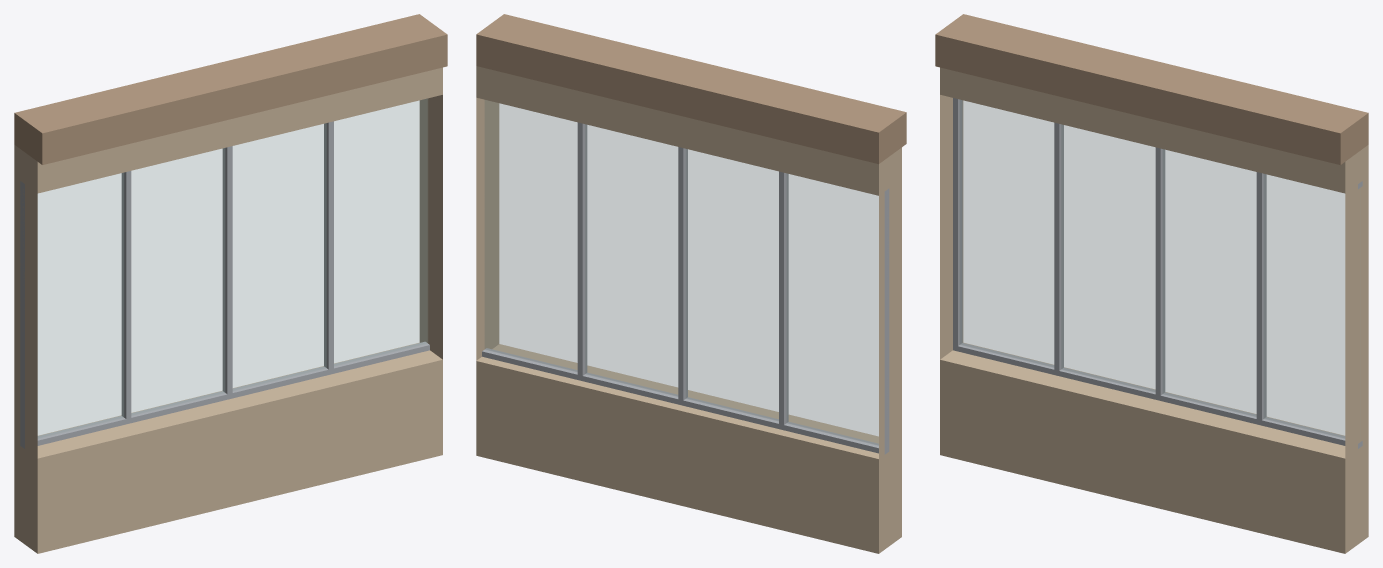
Rendered from city_office_glazed.glb.
3 views of the same model, side by side, from view 1: azimuth 30°, elevation 25°; view 2: azimuth 150°, elevation 25°; view 3: azimuth 330°, elevation 25° (orthographic).
Parts seen in each view (by area): view 1: CityOfficeGlazed_Glass, CityOfficeGlazed_Wall, CityOfficeGlazed_Band, CityOfficeGlazed_Transom0.9, CityOfficeGlazed_Mullion2.0, CityOfficeGlazed_Mullion1.0, CityOfficeGlazed_Mullion3.0, CityOfficeGlazed_Mullion0.0; view 2: CityOfficeGlazed_Glass, CityOfficeGlazed_Wall, CityOfficeGlazed_Band, CityOfficeGlazed_Transom0.9, CityOfficeGlazed_Mullion3.0, CityOfficeGlazed_Mullion2.0, CityOfficeGlazed_Mullion1.0, CityOfficeGlazed_Mullion0.0; view 3: CityOfficeGlazed_Glass, CityOfficeGlazed_Wall, CityOfficeGlazed_Band, CityOfficeGlazed_Transom0.9, CityOfficeGlazed_Mullion2.0, CityOfficeGlazed_Mullion3.0, CityOfficeGlazed_Mullion0.0, CityOfficeGlazed_Mullion1.0.
Part boxes in pixels (left/top/right/bottom): CityOfficeGlazed_Glass: left=38, top=99, right=427, bottom=438; CityOfficeGlazed_Wall: left=14, top=67, right=442, bottom=553; CityOfficeGlazed_Band: left=14, top=14, right=447, bottom=164; CityOfficeGlazed_Transom0.9: left=20, top=342, right=429, bottom=448; CityOfficeGlazed_Mullion2.0: left=222, top=146, right=232, bottom=399; CityOfficeGlazed_Mullion1.0: left=121, top=171, right=131, bottom=418; CityOfficeGlazed_Mullion3.0: left=324, top=121, right=333, bottom=369; CityOfficeGlazed_Mullion0.0: left=20, top=181, right=24, bottom=448; CityOfficeGlazed_Glass: left=484, top=100, right=878, bottom=445; CityOfficeGlazed_Wall: left=476, top=66, right=901, bottom=553; CityOfficeGlazed_Band: left=476, top=14, right=906, bottom=164; CityOfficeGlazed_Transom0.9: left=482, top=348, right=889, bottom=453; CityOfficeGlazed_Mullion3.0: left=577, top=122, right=587, bottom=380; CityOfficeGlazed_Mullion2.0: left=678, top=147, right=687, bottom=405; CityOfficeGlazed_Mullion1.0: left=779, top=171, right=788, bottom=430; CityOfficeGlazed_Mullion0.0: left=884, top=188, right=889, bottom=454; CityOfficeGlazed_Glass: left=960, top=100, right=1344, bottom=438; CityOfficeGlazed_Wall: left=940, top=67, right=1368, bottom=553; CityOfficeGlazed_Band: left=935, top=14, right=1368, bottom=164; CityOfficeGlazed_Transom0.9: left=953, top=343, right=1362, bottom=448; CityOfficeGlazed_Mullion2.0: left=1155, top=147, right=1165, bottom=400; CityOfficeGlazed_Mullion3.0: left=1256, top=172, right=1266, bottom=424; CityOfficeGlazed_Mullion0.0: left=953, top=98, right=962, bottom=351; CityOfficeGlazed_Mullion1.0: left=1054, top=122, right=1063, bottom=375.
Bounding box in the file's own units: 4 × 4 × 0.48.
